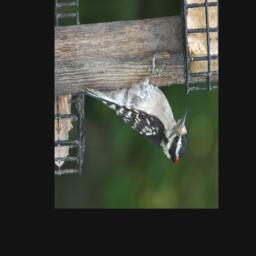Woodpecker: (80, 50, 189, 170)
